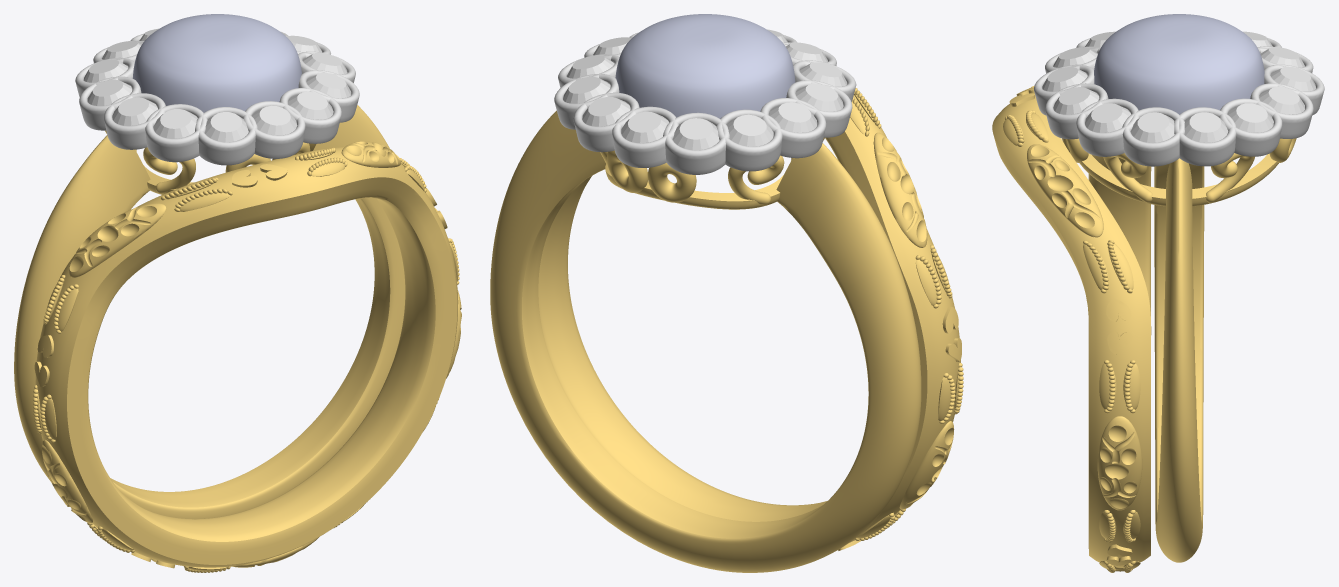
Rendered from SarahWBpattern_blender.glb.
3 views of the same model, side by side, from view 1: azimuth 30°, elevation 25°; view 2: azimuth 150°, elevation 25°; view 3: azimuth 270°, elevation 25° (orthographic). The views are drawn at different scales.
Visible parts, largest first — view 1: Sarah YG for 3d model, Sarah opal for 3d model, Sarah PT for 3d model, Sarah dia for 3d model.008, Sarah dia for 3d model.009, Sarah dia for 3d model.007, Sarah dia for 3d model.010, Sarah dia for 3d model.006, Sarah dia for 3d model.011, Sarah dia for 3d model.005, Sarah dia for 3d model.012, Sarah dia for 3d model.004; view 2: Sarah YG for 3d model, Sarah opal for 3d model, Sarah PT for 3d model, Sarah dia for 3d model.013, Sarah dia for 3d model.012, Sarah dia for 3d model, Sarah dia for 3d model.011, Sarah dia for 3d model.001, Sarah dia for 3d model.010, Sarah dia for 3d model.002, Sarah dia for 3d model.009, Sarah dia for 3d model.003; view 3: Sarah YG for 3d model, Sarah opal for 3d model, Sarah PT for 3d model, Sarah dia for 3d model.003, Sarah dia for 3d model.004, Sarah dia for 3d model.005, Sarah dia for 3d model.002, Sarah dia for 3d model.006, Sarah dia for 3d model.001, Sarah dia for 3d model, Sarah dia for 3d model.007, Sarah dia for 3d model.008 (+1 smaller).
Part boxes in pixels (<box>): Sarah YG for 3d model: <box>14,105,461,572</box>; Sarah opal for 3d model: <box>132,14,301,112</box>; Sarah PT for 3d model: <box>75,31,359,165</box>; Sarah dia for 3d model.008: <box>204,112,248,142</box>; Sarah dia for 3d model.009: <box>153,109,197,138</box>; Sarah dia for 3d model.007: <box>252,105,297,135</box>; Sarah dia for 3d model.010: <box>112,97,157,125</box>; Sarah dia for 3d model.006: <box>288,91,333,119</box>; Sarah dia for 3d model.011: <box>87,79,132,105</box>; Sarah dia for 3d model.005: <box>306,72,351,98</box>; Sarah dia for 3d model.012: <box>83,59,128,82</box>; Sarah dia for 3d model.004: <box>303,52,347,74</box>; Sarah YG for 3d model: <box>490,88,963,572</box>; Sarah opal for 3d model: <box>615,14,795,118</box>; Sarah PT for 3d model: <box>554,32,856,174</box>; Sarah dia for 3d model.013: <box>672,118,719,150</box>; Sarah dia for 3d model.012: <box>726,114,773,146</box>; Sarah dia for 3d model: <box>621,111,668,143</box>; Sarah dia for 3d model.011: <box>769,102,817,132</box>; Sarah dia for 3d model.001: <box>582,97,630,126</box>; Sarah dia for 3d model.010: <box>796,83,843,111</box>; Sarah dia for 3d model.002: <box>563,76,610,103</box>; Sarah dia for 3d model.009: <box>800,62,847,86</box>; Sarah dia for 3d model.003: <box>566,55,614,78</box>; Sarah YG for 3d model: <box>992,86,1296,572</box>; Sarah opal for 3d model: <box>1094,14,1264,114</box>; Sarah PT for 3d model: <box>1034,38,1324,166</box>; Sarah dia for 3d model.003: <box>1184,112,1228,142</box>; Sarah dia for 3d model.004: <box>1130,112,1174,142</box>; Sarah dia for 3d model.005: <box>1085,103,1131,132</box>; Sarah dia for 3d model.002: <box>1228,103,1273,132</box>; Sarah dia for 3d model.006: <box>1053,87,1099,114</box>; Sarah dia for 3d model.001: <box>1259,87,1304,114</box>; Sarah dia for 3d model: <box>1271,66,1316,91</box>; Sarah dia for 3d model.007: <box>1042,67,1087,91</box>; Sarah dia for 3d model.008: <box>1053,47,1097,67</box>.
Bounding box in the file's own units: 20.59 × 23.99 × 13.89.
